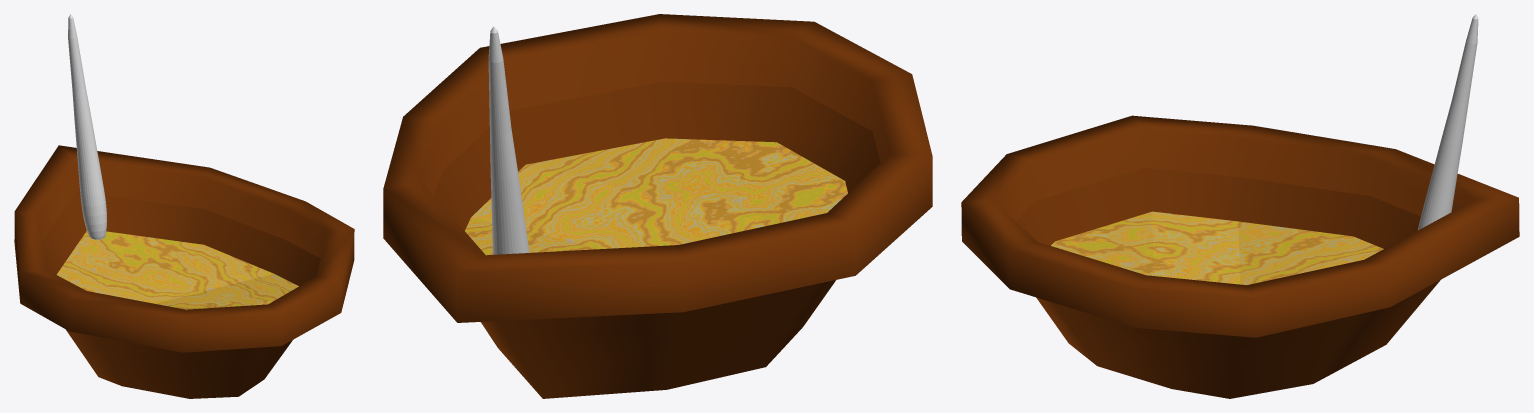
Rendered from Diya.fbx.
3 views of the same model, side by side, from view 1: azimuth 30°, elevation 25°; view 2: azimuth 150°, elevation 25°; view 3: azimuth 270°, elevation 25° (orthographic). The views are drawn at different scales.
Parts seen in each view (by area): view 1: DiyaBody, DiyaFlame; view 2: DiyaBody, DiyaFlame; view 3: DiyaBody, DiyaFlame.
Part boxes in pixels (x1,y1,x2,y2): DiyaBody: (14, 145, 354, 398); DiyaFlame: (68, 14, 106, 239); DiyaBody: (383, 14, 932, 398); DiyaFlame: (488, 26, 529, 254); DiyaBody: (961, 115, 1519, 398); DiyaFlame: (1417, 14, 1478, 230).
Size of the model in its own units: 0.4763 by 0.4323 by 0.648.
Materials: 3 (2 with a texture image).
